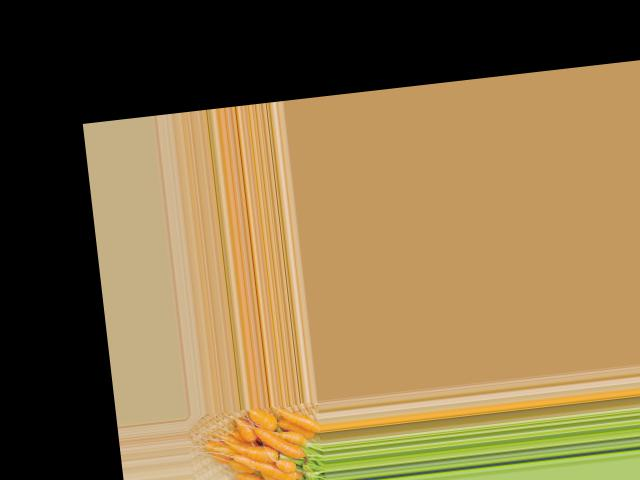carrot: (257, 470, 279, 480)
